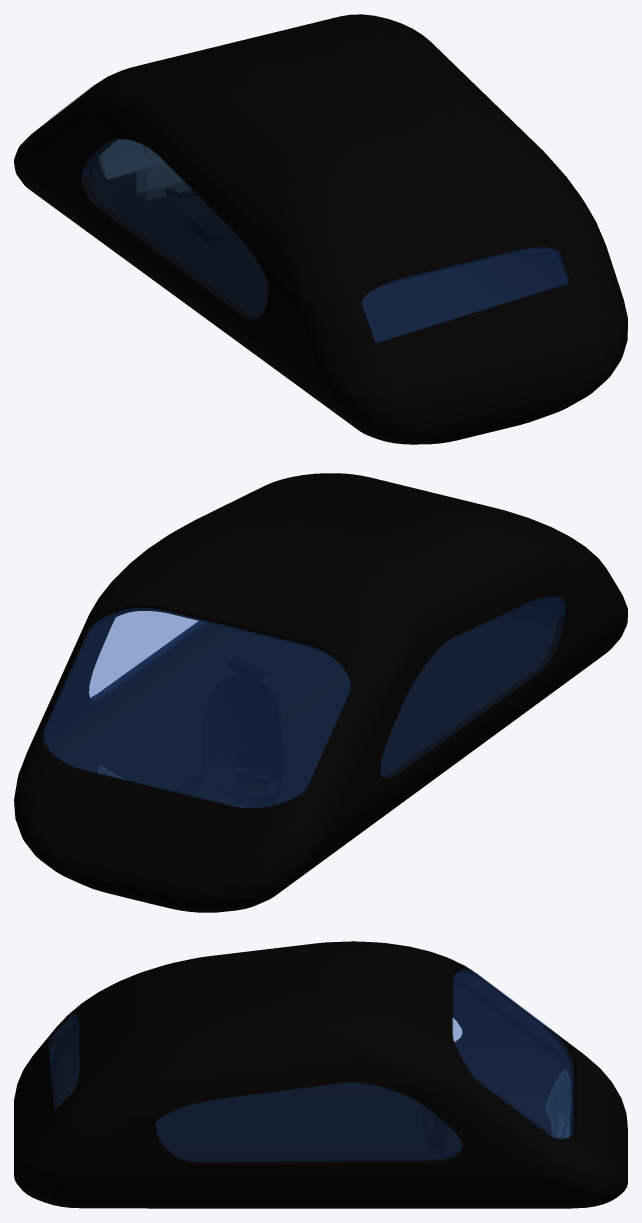
File: капсула.fbx
The picture shows the model from 3 angles, top to bottom: view 1: azimuth 30°, elevation 25°; view 2: azimuth 150°, elevation 25°; view 3: azimuth 270°, elevation 25°; orthographic projection. The views are drawn at different scales.
Visible parts, largest first — view 1: Circle, Cube.004, Cube.007, Circle.003, Circle.001, Cube.002, Cube; view 2: Circle, Cube.006, Cube.004, Circle.002, Cube.005, Circle.001, Plane, Cube.001; view 3: Circle, Cube.005, Cube.006, Cube.007, Circle.003, Circle.002.
Boxes of the visible parts, x1,y1,x2,y2 form: Circle: (14,14,627,444); Cube.004: (82,139,268,318); Cube.007: (362,247,569,342); Circle.003: (99,139,165,178); Circle.001: (165,188,233,231); Cube.002: (137,164,183,192); Cube: (185,215,241,246); Circle: (14,473,627,912); Cube.006: (43,608,350,807); Cube.004: (380,597,565,778); Circle.002: (201,676,283,789); Cube.005: (89,611,202,699); Circle.001: (174,773,280,807); Plane: (231,752,269,798); Cube.001: (228,655,267,679); Circle: (14,941,627,1208); Cube.005: (156,1082,461,1161); Cube.006: (453,969,573,1139); Cube.007: (49,1014,78,1110); Circle.003: (546,1070,569,1137); Circle.002: (420,1104,448,1154).
Bounding box in the file's own units: 400 × 315 × 854.
